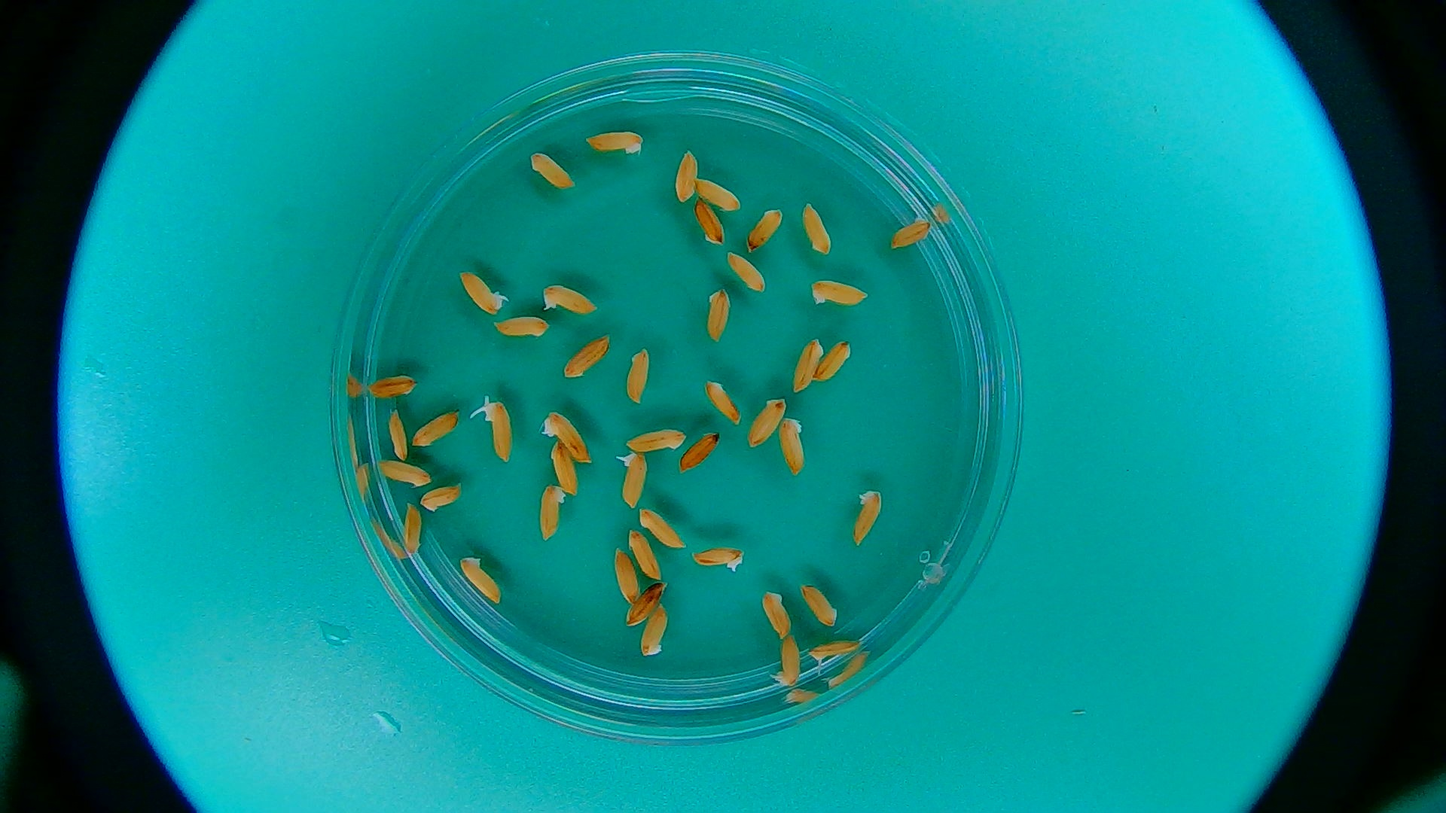no: (539, 407, 596, 464), (558, 330, 617, 385), (410, 403, 463, 450), (620, 419, 688, 455), (621, 576, 668, 628), (756, 587, 803, 638), (799, 582, 842, 637), (624, 525, 666, 581), (639, 506, 687, 553), (746, 394, 786, 450), (811, 336, 857, 384), (458, 556, 505, 602), (691, 174, 746, 212), (537, 480, 569, 545), (791, 334, 827, 391), (612, 540, 644, 604), (624, 340, 654, 407), (460, 267, 502, 314), (413, 406, 462, 446), (809, 276, 872, 307), (638, 601, 670, 662), (848, 488, 883, 543), (692, 194, 727, 248), (703, 379, 742, 427), (531, 152, 574, 195), (690, 540, 746, 573), (678, 430, 719, 475), (780, 416, 810, 476), (377, 455, 433, 487), (489, 314, 552, 341), (551, 438, 579, 498), (800, 202, 832, 254), (748, 209, 784, 254), (589, 129, 648, 155), (400, 500, 426, 559), (386, 406, 414, 460), (674, 146, 700, 203), (889, 217, 932, 251), (368, 370, 415, 401), (728, 254, 764, 293), (706, 289, 731, 345), (420, 483, 465, 511)
yes: (613, 449, 648, 510), (540, 284, 597, 320), (484, 400, 512, 464), (773, 636, 801, 690), (809, 636, 859, 663)
